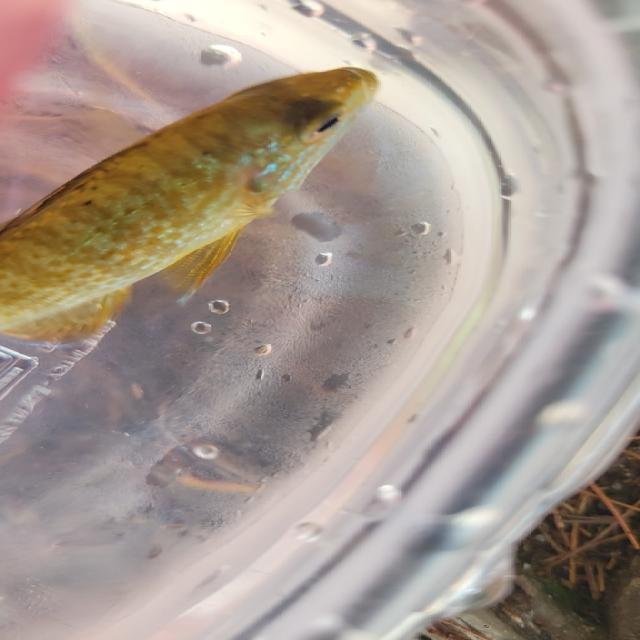Gunes Levregi: (0, 58, 390, 343)
